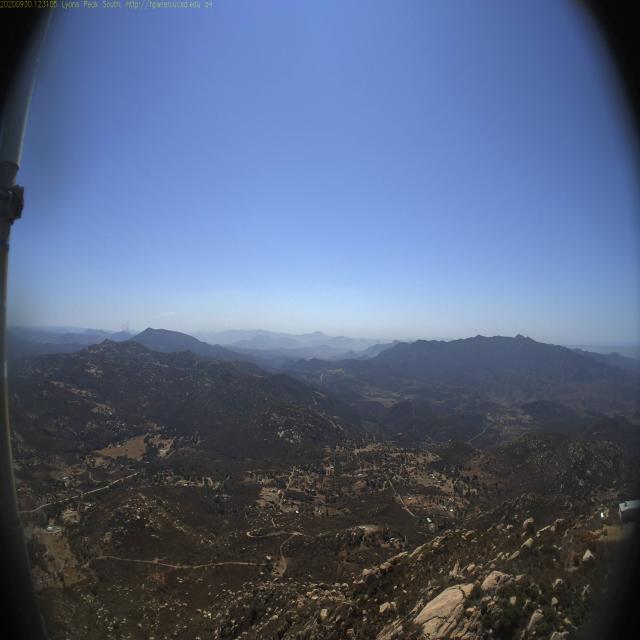smoke: (119, 316, 130, 343)
